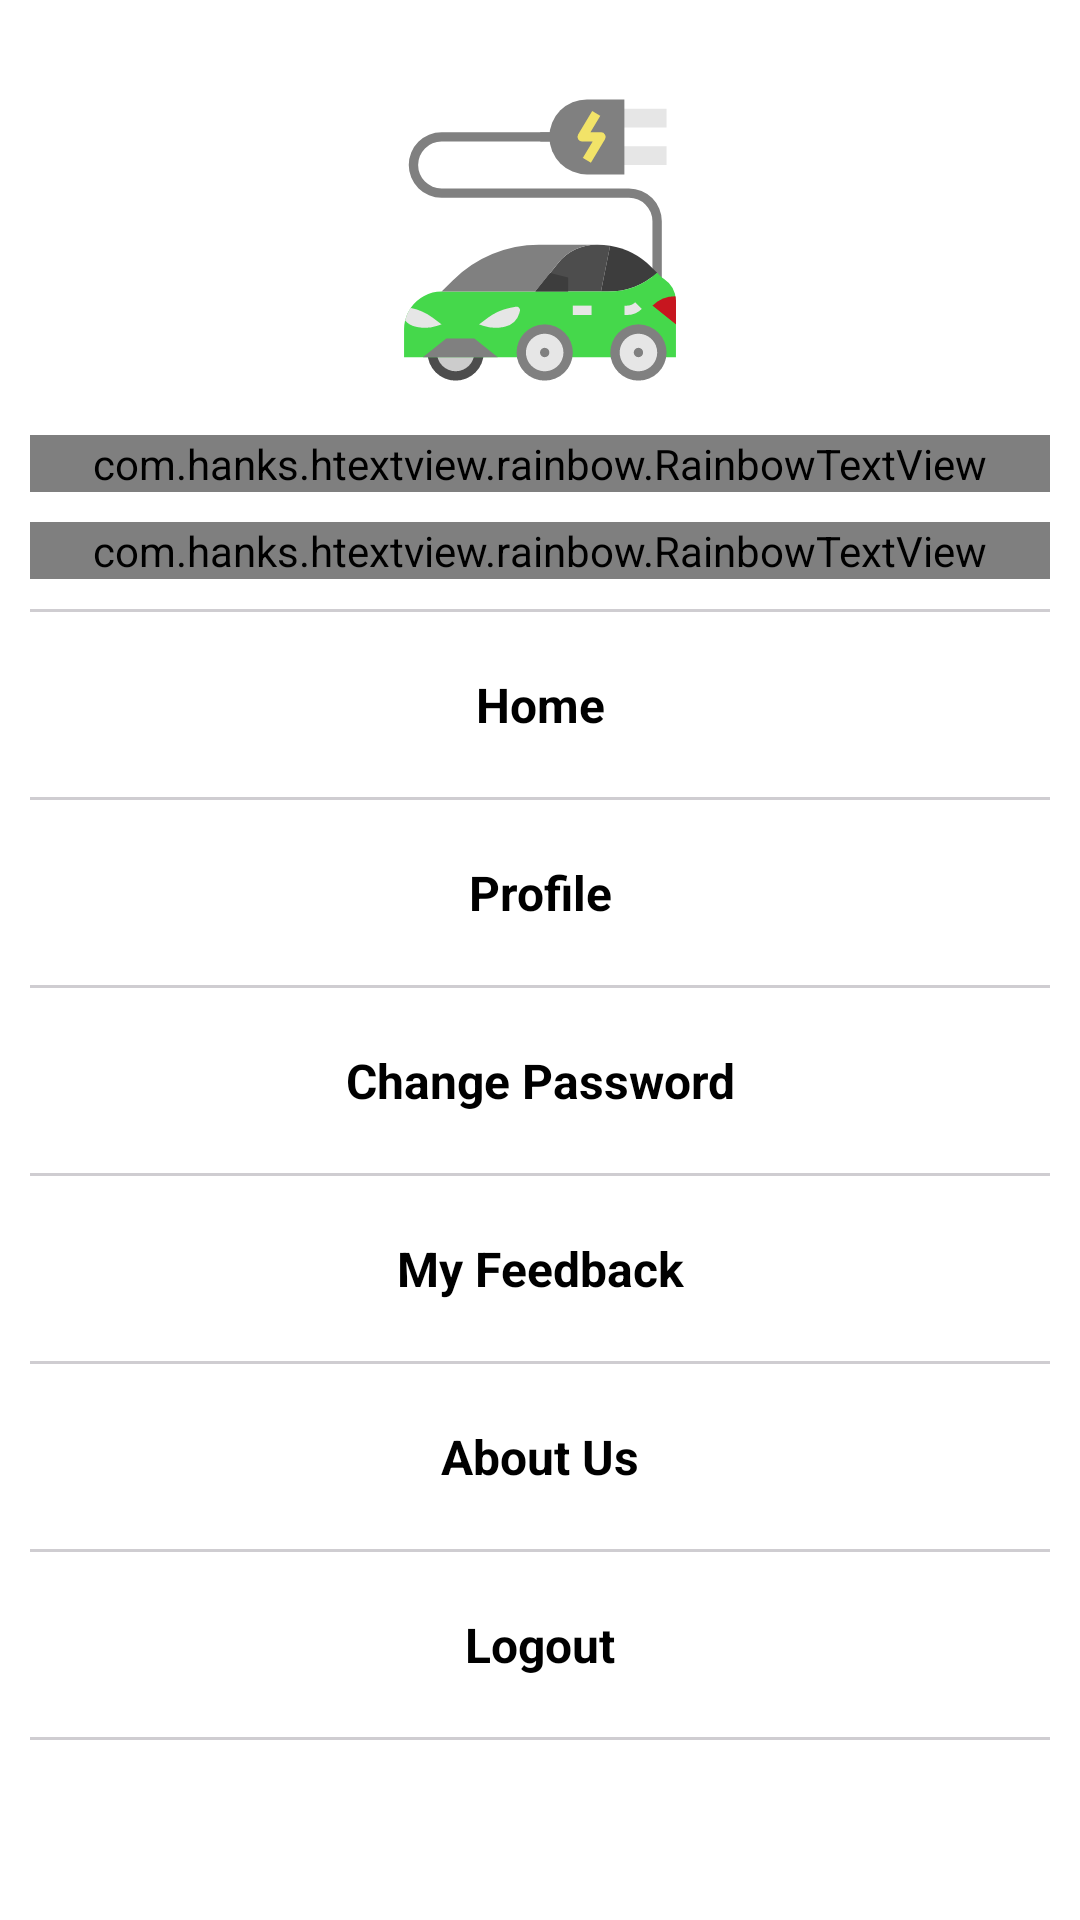

Named icons in this screenshot (1080px×1920px) and their bounding boxes, (x1, y1, x2, y2):
electric car: (404, 99, 676, 381)
